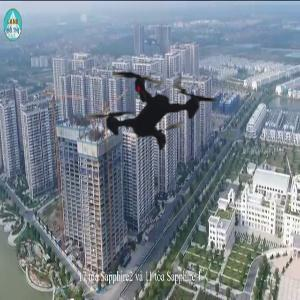drone: (61, 17, 246, 202)
